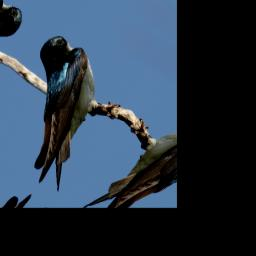Swallow: (0, 30, 140, 199)
